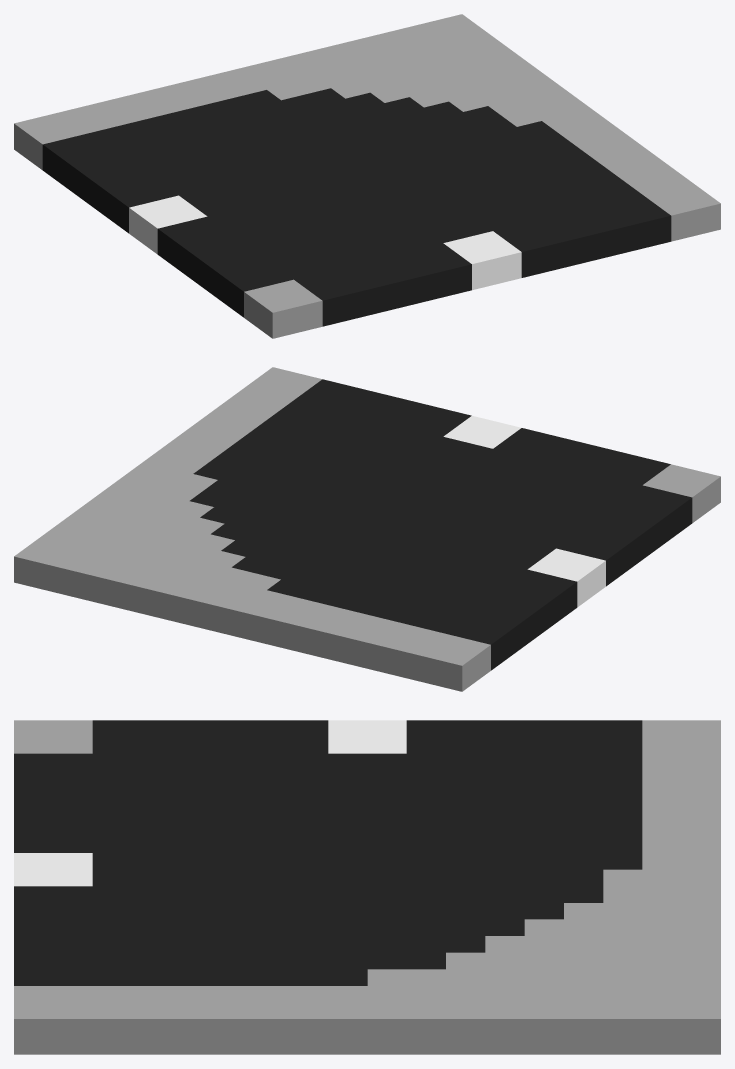
The model's file is road_2_turn.obj.
3 renders of one model, top to bottom at view 1: azimuth 30°, elevation 25°; view 2: azimuth 150°, elevation 25°; view 3: azimuth 270°, elevation 25°, orthographic. The views are drawn at different scales.
Bounding box in the file's own units: 1.8 × 0.1 × 1.8.
1 material, 1 textured.
